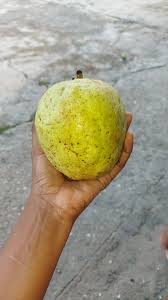guava: (33, 4, 143, 272)
